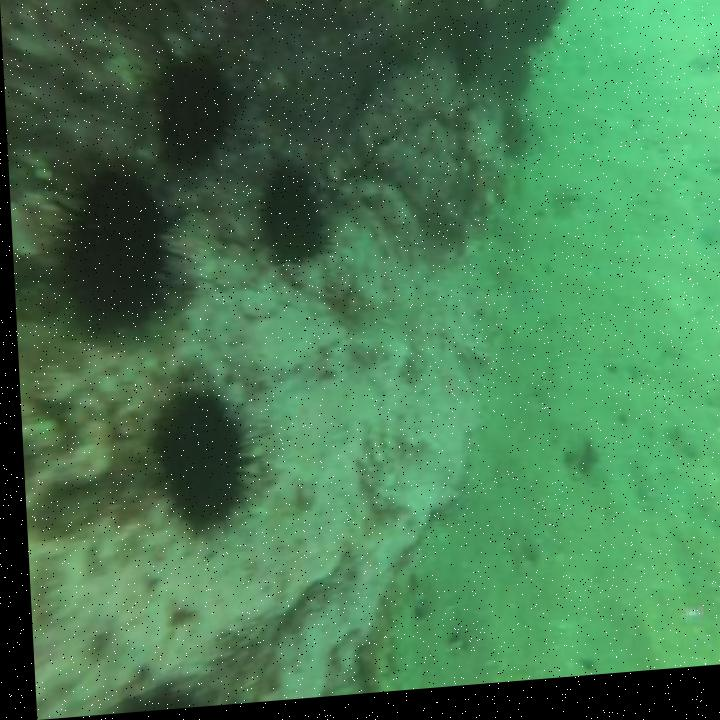echinus: (38, 145, 200, 357), (133, 356, 268, 561), (147, 45, 247, 190), (251, 145, 336, 294)
